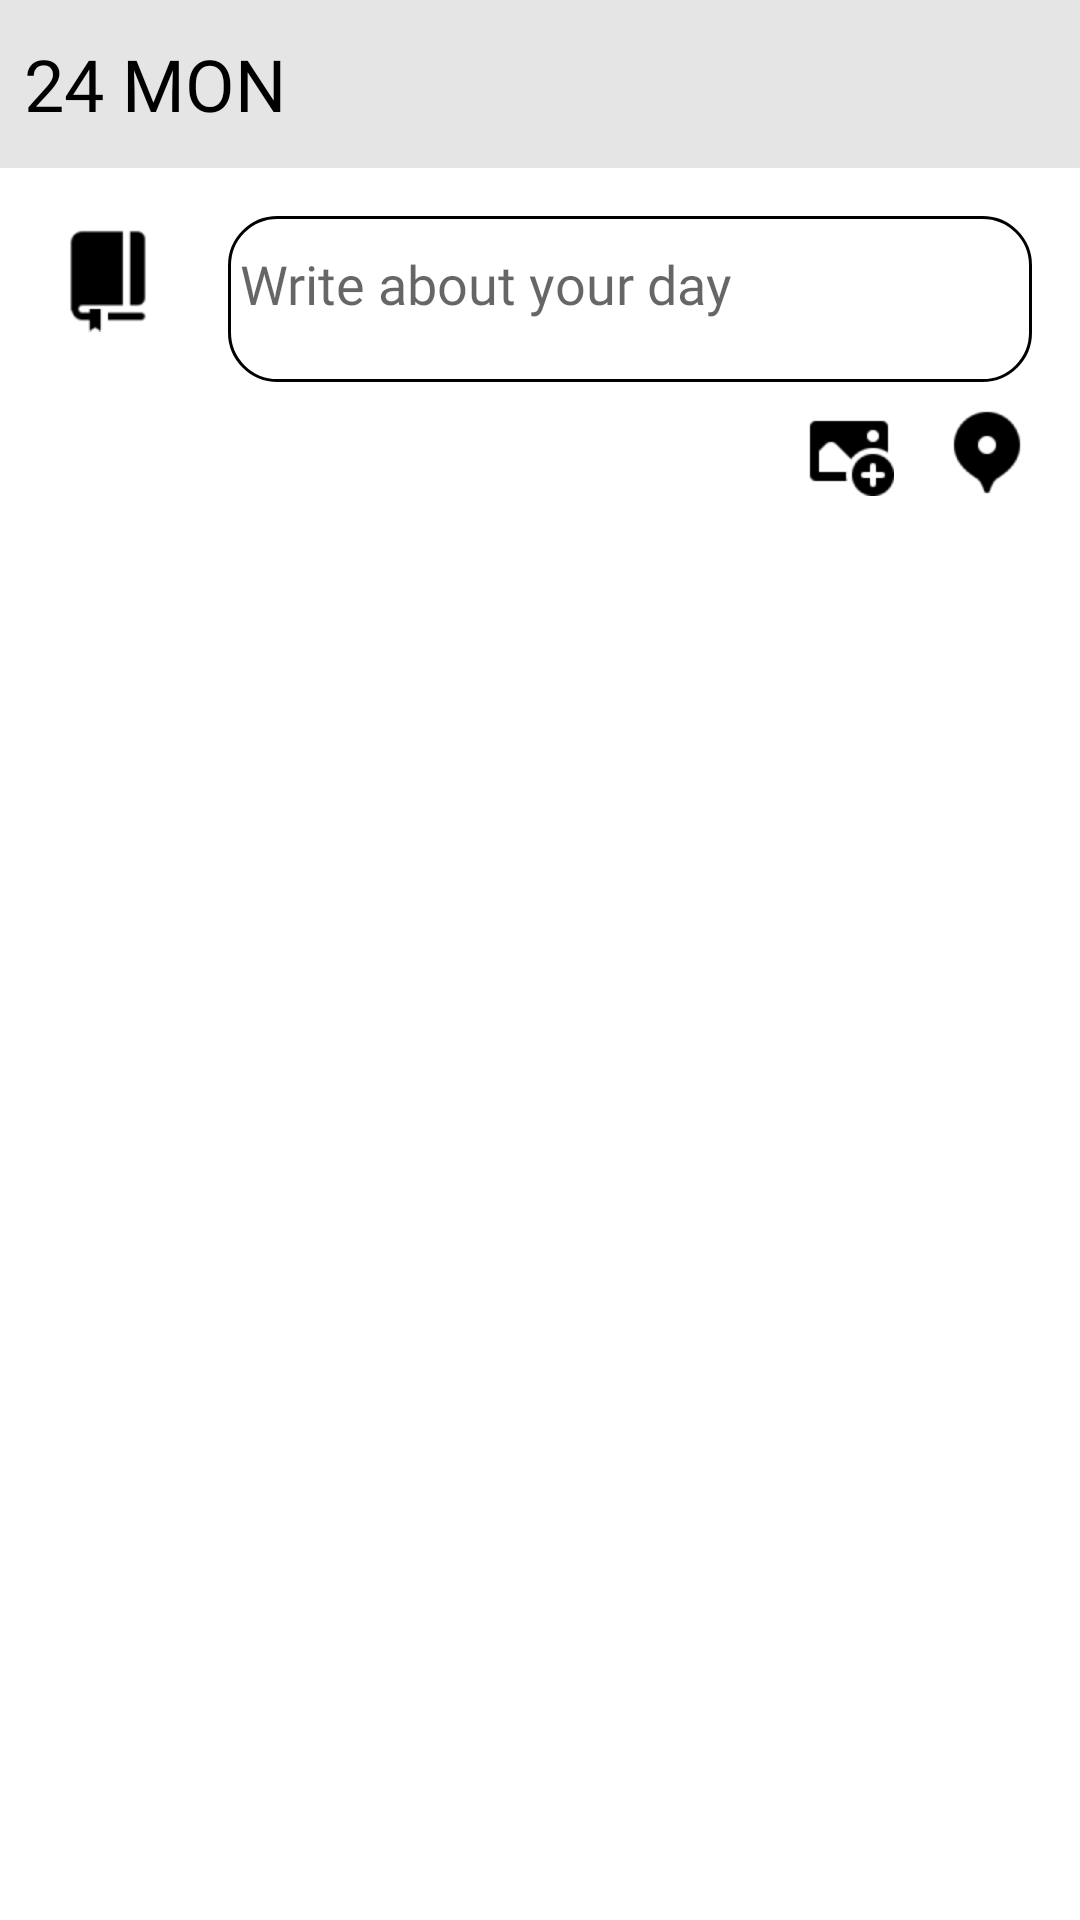

Where to tap for icons on this 1080w x 1920h app screen, as (x=x, y=y):
location: (x=987, y=452)
photo: (x=851, y=458)
